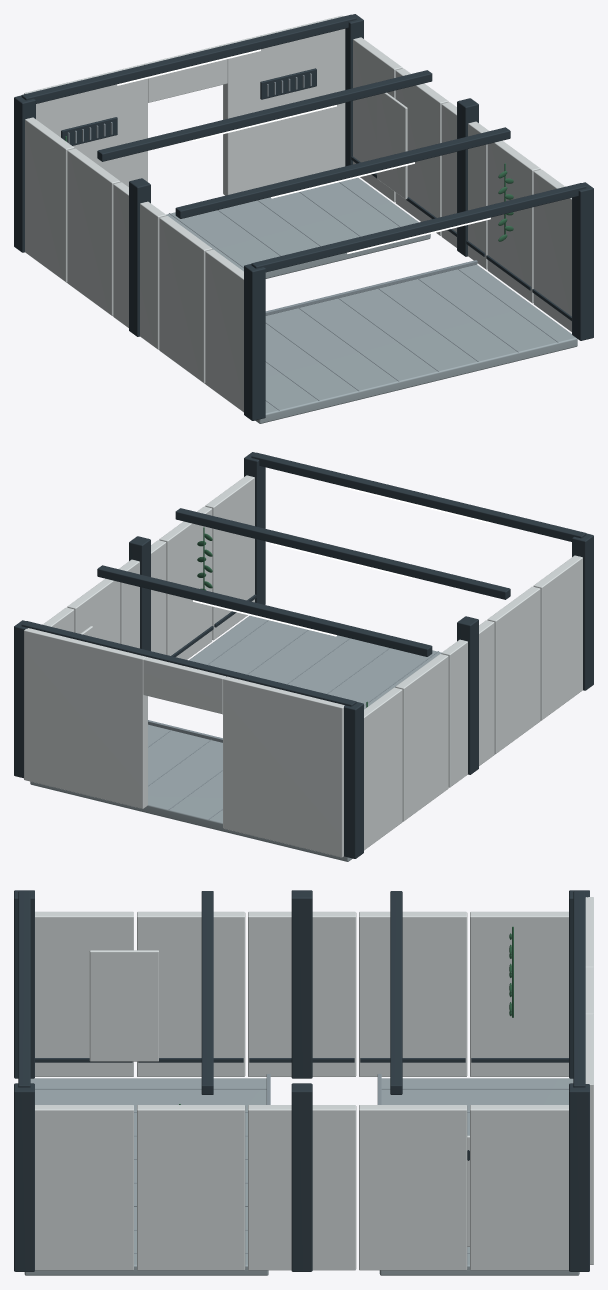
File: room1.glb
The picture shows the model from 3 angles, top to bottom: view 1: azimuth 30°, elevation 25°; view 2: azimuth 150°, elevation 25°; view 3: azimuth 270°, elevation 25°; orthographic projection. The views are drawn at different scales.
Visible parts, largest first — view 1: Near platform, Rear wall 2.5, Far platform, Wall structural -1_3, Wall structural -1_1, Rear wall -2.5, Wall structural -1_4, Wall structural 1_1, Wall structural -1_0, Wall structural -1_2, Wall structural 1_0, Wall structural 1_3 (+17 smaller); view 2: Rear wall 2.5, Rear wall -2.5, Near platform, Far platform, Wall structural -1_1, Wall structural -1_3, Wall structural -1_0, Wall structural -1_4, Wall structural 1_1, Wall structural -1_2, Wall structural 1_0, Roof beam 6.7 (+12 smaller); view 3: Wall structural 1_1, Wall structural 1_3, Wall structural 1_0, Wall structural 1_4, Wall structural -1_3, Wall structural -1_4, Wall structural 1_2, Wall structural -1_2, Wall structural -1_1, Wall structural -1_0, Near platform, Near portal candidate (+13 smaller).
Part boxes in pixels (left/top/right/bottom): Near platform: left=204, top=264, right=577, bottom=423; Rear wall 2.5: left=223, top=15, right=345, bottom=195; Far platform: left=66, top=177, right=430, bottom=282; Wall structural -1_3: left=67, top=148, right=120, bottom=315; Wall structural -1_1: left=159, top=216, right=212, bottom=383; Rear wall -2.5: left=24, top=64, right=147, bottom=186; Wall structural -1_4: left=25, top=117, right=74, bottom=282; Wall structural 1_1: left=487, top=140, right=540, bottom=303; Wall structural -1_0: left=205, top=249, right=243, bottom=412; Wall structural -1_2: left=113, top=182, right=166, bottom=349; Wall structural 1_0: left=533, top=169, right=571, bottom=331; Wall structural 1_3: left=395, top=68, right=448, bottom=235; Rear wall 2.5: left=24, top=628, right=147, bottom=808; Rear wall -2.5: left=223, top=676, right=344, bottom=857; Near platform: left=189, top=615, right=541, bottom=754; Far platform: left=30, top=724, right=403, bottom=861; Wall structural -1_1: left=487, top=586, right=540, bottom=753; Wall structural -1_3: left=395, top=654, right=448, bottom=821; Wall structural -1_0: left=533, top=555, right=582, bottom=720; Wall structural -1_4: left=364, top=687, right=402, bottom=850; Wall structural 1_1: left=159, top=506, right=212, bottom=659; Wall structural -1_2: left=441, top=620, right=494, bottom=787; Wall structural 1_0: left=205, top=475, right=254, bottom=640; Roof beam 6.7: left=97, top=565, right=432, bottom=656; Wall structural 1_1: left=137, top=1105, right=245, bottom=1270; Wall structural 1_3: left=359, top=1105, right=467, bottom=1270; Wall structural 1_0: left=35, top=1105, right=133, bottom=1270; Wall structural 1_4: left=470, top=1105, right=568, bottom=1270; Wall structural -1_3: left=359, top=911, right=467, bottom=1076; Wall structural -1_4: left=470, top=911, right=568, bottom=1076; Wall structural 1_2: left=248, top=1105, right=356, bottom=1270; Wall structural -1_2: left=248, top=911, right=356, bottom=1076; Wall structural -1_1: left=137, top=911, right=245, bottom=1076; Wall structural -1_0: left=35, top=911, right=133, bottom=1076; Near platform: left=24, top=1078, right=268, bottom=1275; Near portal candidate: left=89, top=950, right=158, bottom=1061.
Size of the model in its own units: 8.59 by 3.87 by 10.45.
